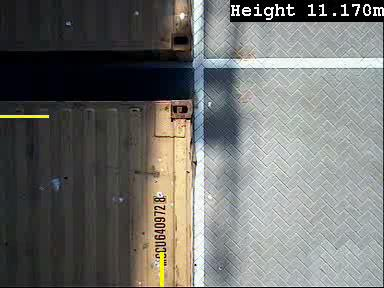groundmarker_2: (187, 20, 235, 103)
